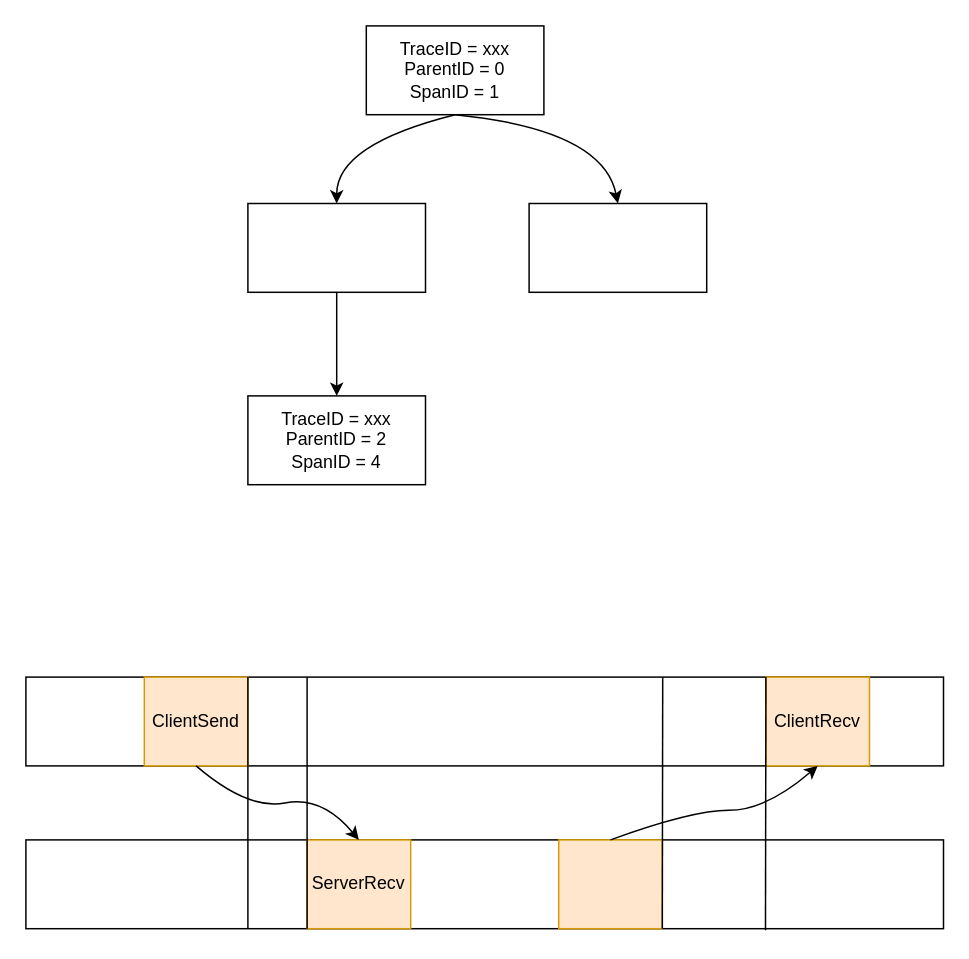
This 969x959 diagram has some shape labels left out. Here are the shapes that lost their labels. From the top down, the centre of each, then its label:
pixel 336 247: TraceID = xxx ParentID = 1 SpanID = 2
pixel 617 247: TraceID = xxx ParentID = 1 SpanID = 3
pixel 609 883: ServerSend
